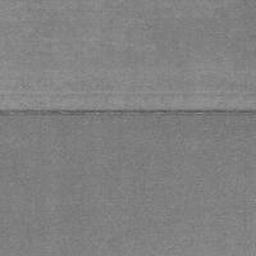Welding line: (0, 109, 256, 118)
